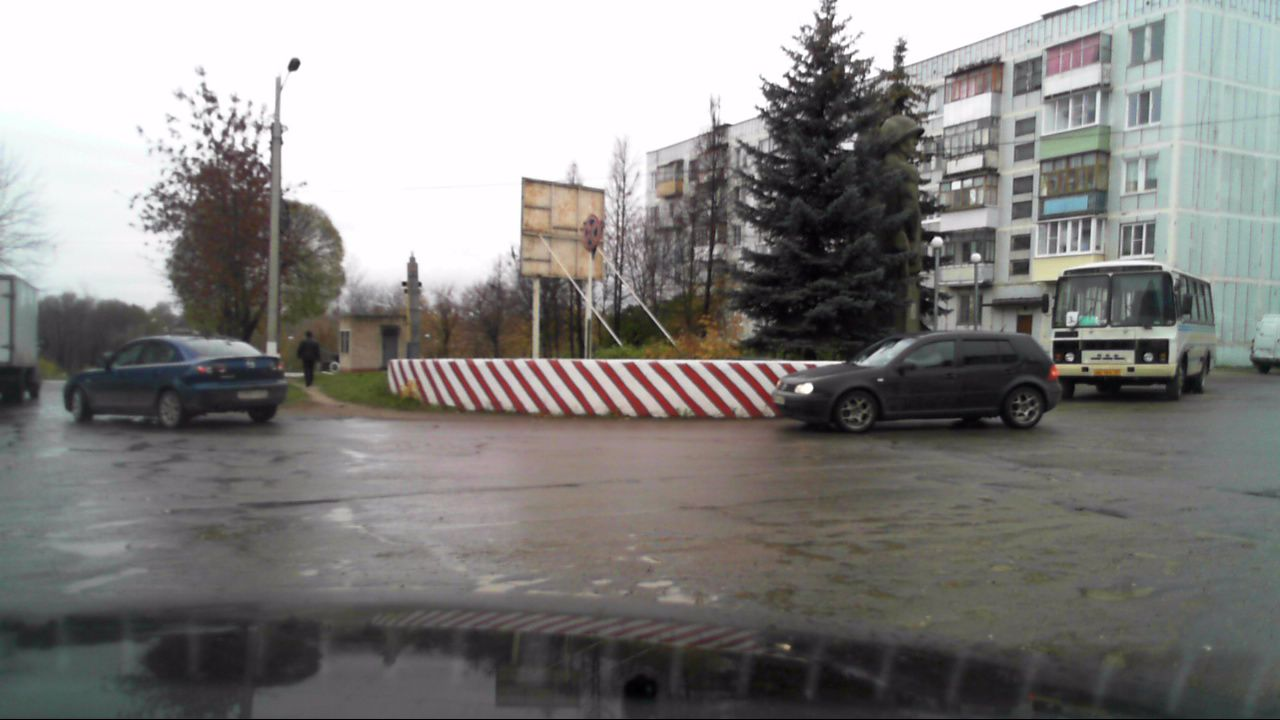No Parking: (580, 214, 601, 252)
